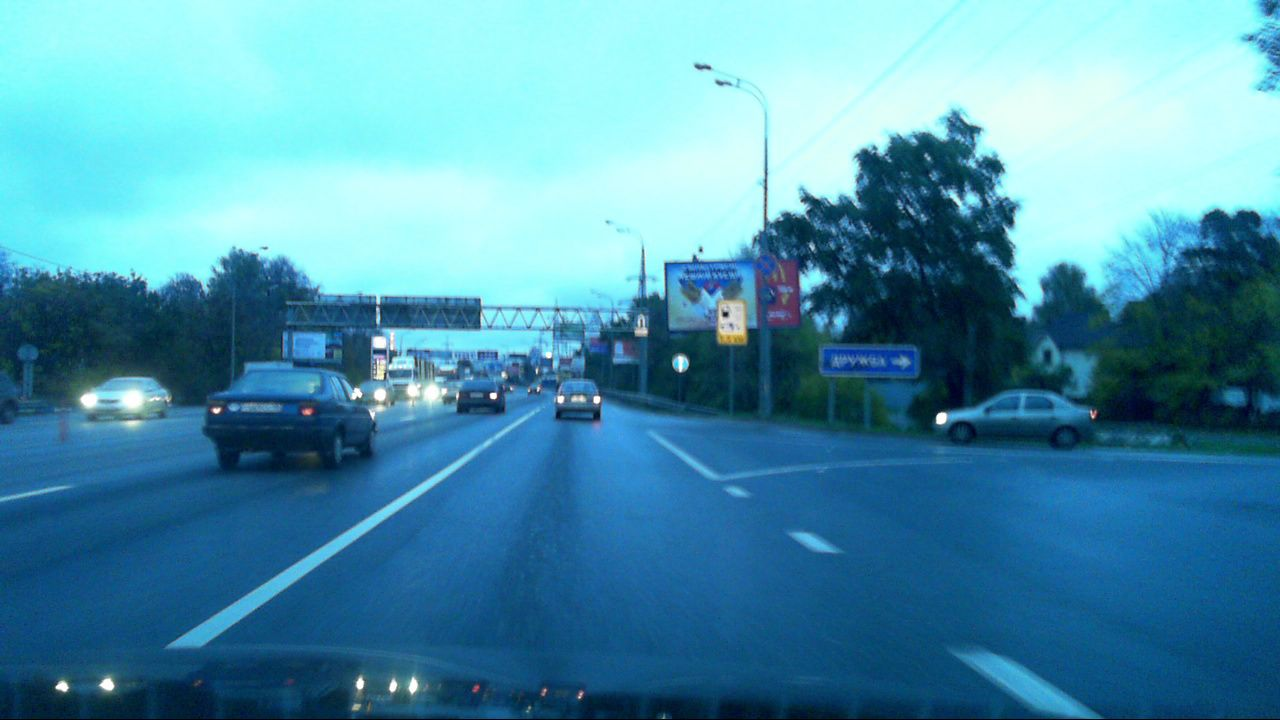No Parking: (755, 255, 776, 276)
